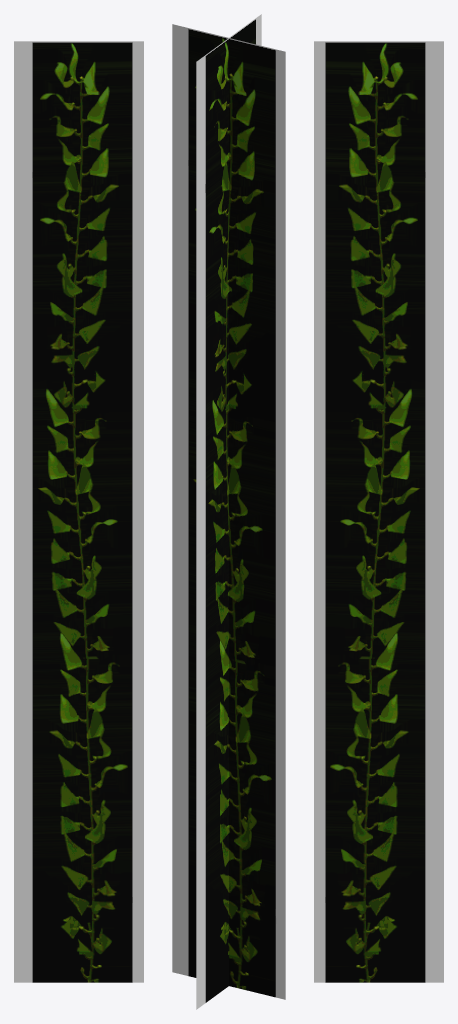
Rendered from Kelp1.glb.
3 views of the same model, side by side, from view 1: azimuth 90°, elevation 25°; view 2: azimuth 150°, elevation 25°; view 3: azimuth 270°, elevation 25° (orthographic).
Visible parts, largest first — view 1: T_Kelp1; view 2: T_Kelp1; view 3: T_Kelp1.
Boxes of the visible parts, box(x1,y1,x2,y2) form: T_Kelp1: box(14, 41, 143, 982); T_Kelp1: box(172, 14, 285, 1009); T_Kelp1: box(314, 41, 443, 982).
Size of the model in its own units: 0.125 by 1 by 0.125.
Materials: 1 (1 with a texture image).
